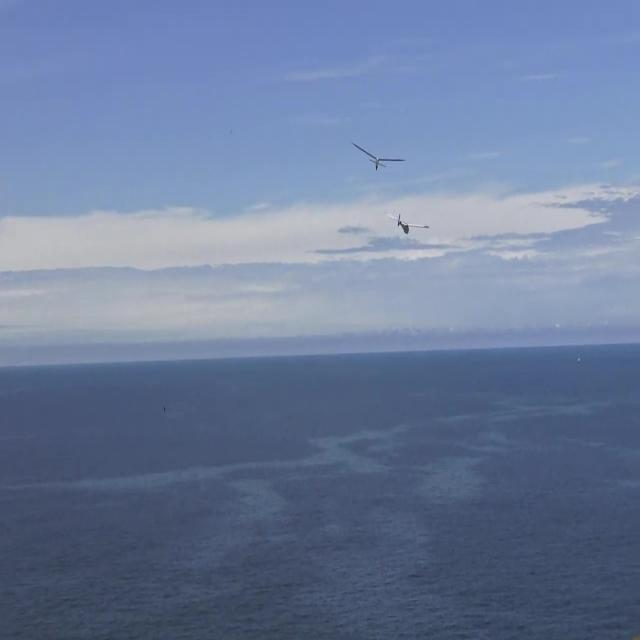iha: (352, 141, 408, 173), (384, 212, 431, 236)
